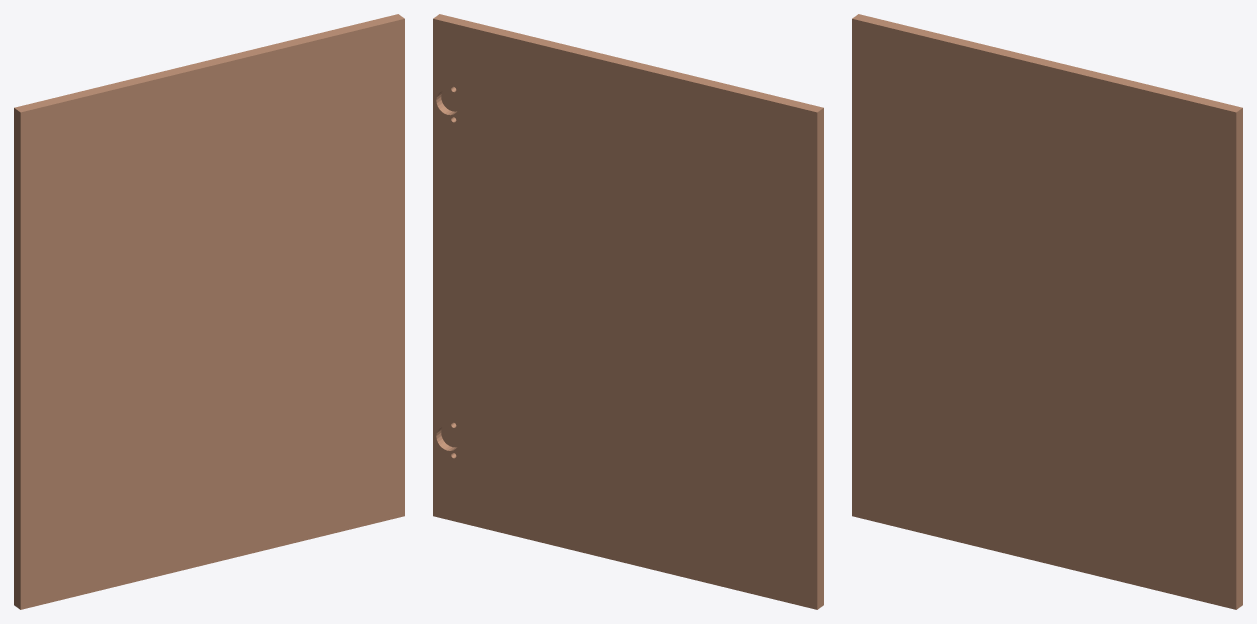
Rendered from B2_dor.glb.
3 views of the same model, side by side, from view 1: azimuth 30°, elevation 25°; view 2: azimuth 150°, elevation 25°; view 3: azimuth 330°, elevation 25° (orthographic).
Bounding box in the file's own units: 597 × 738 × 17.4.
